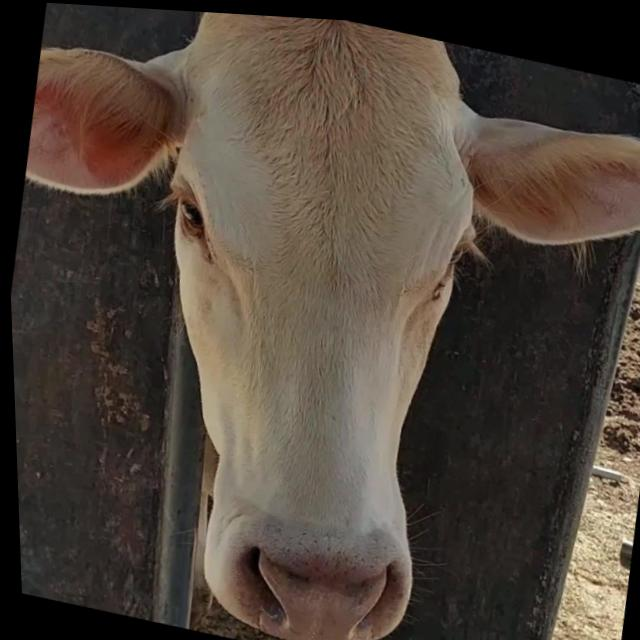cowFace: (96, 4, 510, 640)
